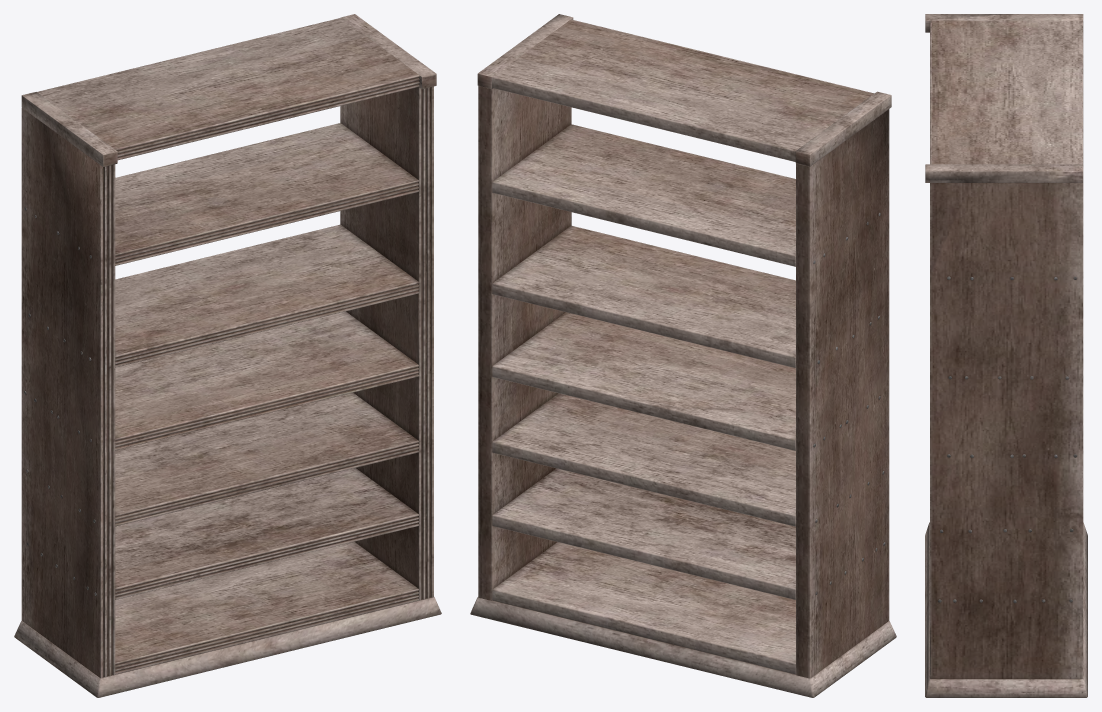
Rendered from wooden_bookshelf_worn.glb.
3 views of the same model, side by side, from view 1: azimuth 30°, elevation 25°; view 2: azimuth 150°, elevation 25°; view 3: azimuth 270°, elevation 25° (orthographic). The views are drawn at different scales.
Visible parts, largest first — view 1: wooden_bookshelf_worn; view 2: wooden_bookshelf_worn; view 3: wooden_bookshelf_worn.
Boxes of the visible parts, x1,y1,x2,y2 form: wooden_bookshelf_worn: (14,14,441,697); wooden_bookshelf_worn: (470,14,896,697); wooden_bookshelf_worn: (925,14,1087,697).
Size of the model in its own units: 1.37 by 2.06 by 0.5814.
Materials: 1 (1 with a texture image).
